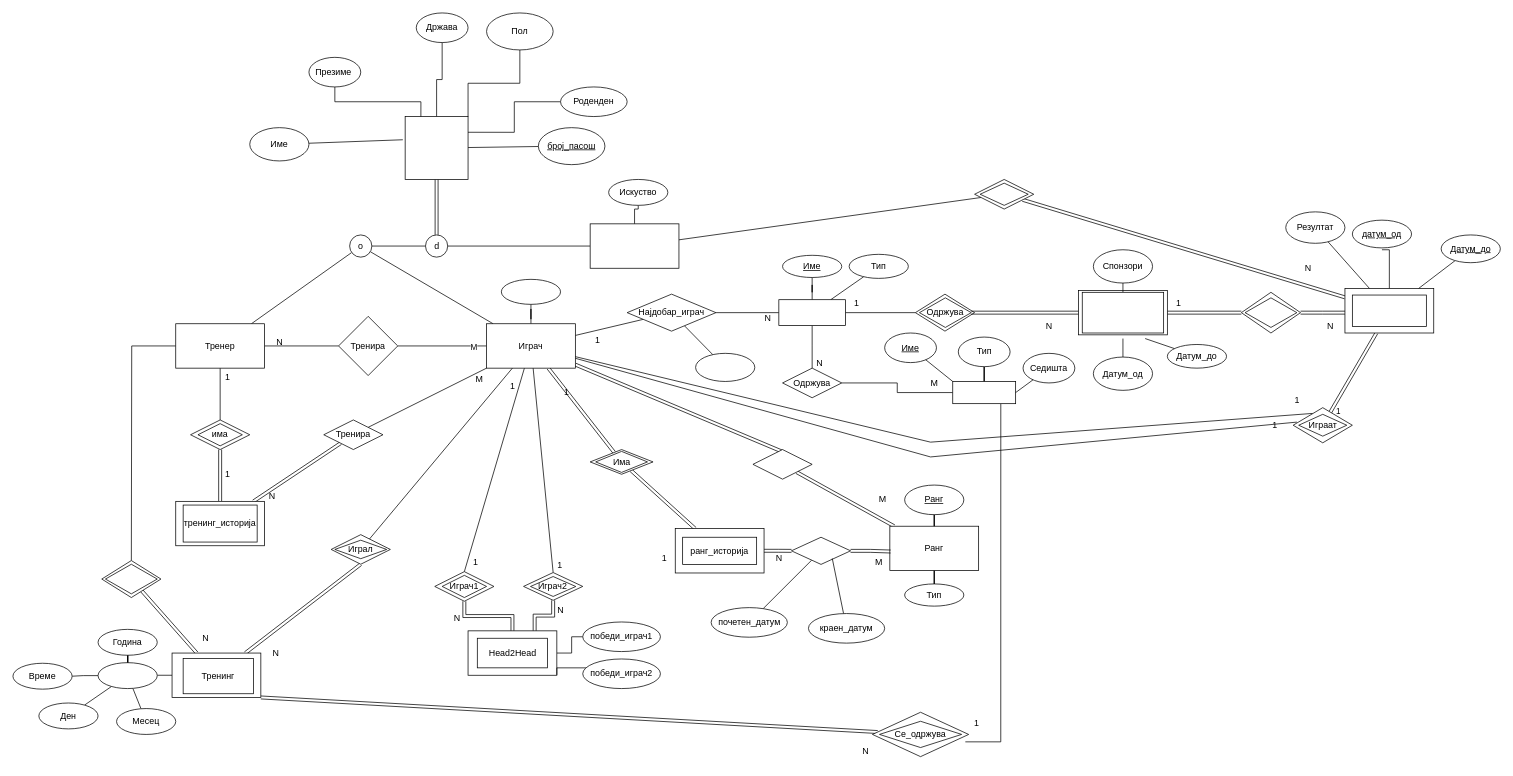
This 1513x776 diagram has some shape labels left out. The shapes that lost their labels are listed below. From the top down, each one's centre as x and y in pixels, then its label:
At point (436, 147): "Учесник".
At point (1003, 193): "суди".
At point (634, 245): "Судија".
At point (531, 291): "почетна_год".
At point (1389, 310): "Натпревар".
At point (811, 312): "турнир".
At point (1123, 312): "Одржан_турнир".
At point (1270, 312): "игра".
At point (725, 367): "Победи".
At point (984, 392): "Терен".
At point (782, 464): "Рангиран".
At point (821, 550): "Содржи".
At point (131, 579): "Тренирал".
At point (127, 675): "Датум".
